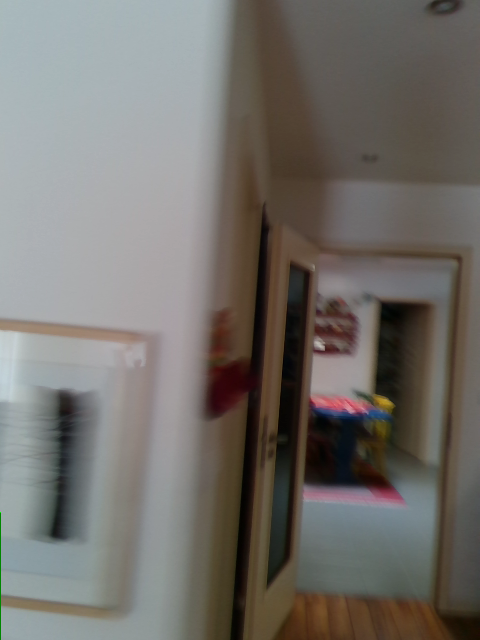open: (244, 227, 472, 639)
